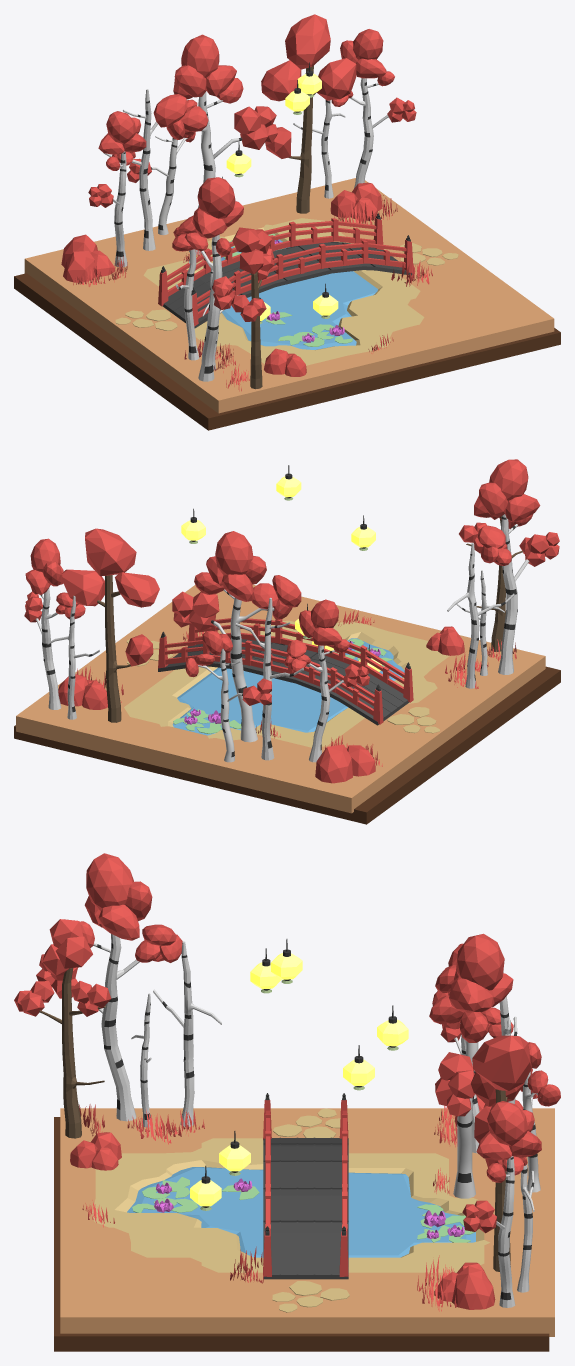
Rendered from studio.gltf.
The picture shows the model from 3 angles, top to bottom: view 1: azimuth 30°, elevation 25°; view 2: azimuth 150°, elevation 25°; view 3: azimuth 270°, elevation 25°; orthographic projection. The views are drawn at different scales.
Parts seen in each view (by area): view 1: Cube_Material.008_0, Cube_Material.016_0, Cube_Material.009_0, Icosphere.016, Cube.005_Material.003_0.001, Circle, Plane.003, Cylinder.005_Material.003_0, Cube.005_Material.007_0, Icosphere.010, Cylinder.003_Material.003_0, Cylinder.001_Material.003_0 (+10 smaller); view 2: Cube_Material.008_0, Cube_Material.016_0, Icosphere.016, Cube_Material.009_0, Circle, Cube.005_Material.003_0.001, Plane.003, Cylinder.005_Material.003_0, Cube.005_Material.007_0, Cylinder.001_Material.003_0, Icosphere.001, Cylinder.003_Material.003_0 (+11 smaller); view 3: Cube_Material.008_0, Cube_Material.009_0, Plane.003, Cube_Material.016_0, Cube.005_Material.007_0, Icosphere.016, Cylinder.005_Material.003_0, Icosphere.010, Circle, Cylinder.003_Material.003_0, Cylinder.005_Material.001_0, Cube.005_Material.003_0.001 (+14 smaller).
Boxes of the visible parts, bbox=[...] form: Cube_Material.008_0: bbox=[24, 178, 554, 413]; Cube_Material.016_0: bbox=[14, 273, 560, 430]; Cube_Material.009_0: bbox=[143, 218, 424, 365]; Icosphere.016: bbox=[153, 34, 277, 254]; Cube.005_Material.003_0.001: bbox=[158, 218, 412, 326]; Circle: bbox=[261, 14, 356, 213]; Plane.003: bbox=[221, 239, 377, 349]; Cylinder.005_Material.003_0: bbox=[172, 177, 243, 309]; Cube.005_Material.007_0: bbox=[162, 242, 412, 328]; Icosphere.010: bbox=[231, 227, 274, 389]; Cylinder.003_Material.003_0: bbox=[326, 29, 416, 122]; Cylinder.001_Material.003_0: bbox=[88, 111, 146, 207]; Cube_Material.008_0: bbox=[16, 584, 545, 813]; Cube_Material.016_0: bbox=[14, 666, 560, 824]; Icosphere.016: bbox=[172, 531, 301, 742]; Cube_Material.009_0: bbox=[124, 620, 449, 747]; Circle: bbox=[62, 528, 159, 722]; Cube.005_Material.003_0.001: bbox=[158, 618, 413, 724]; Plane.003: bbox=[172, 638, 404, 735]; Cylinder.005_Material.003_0: bbox=[474, 459, 559, 566]; Cube.005_Material.007_0: bbox=[158, 638, 408, 725]; Cylinder.001_Material.003_0: bbox=[284, 599, 369, 686]; Icosphere.001: bbox=[185, 630, 271, 762]; Cylinder.003_Material.003_0: bbox=[24, 538, 85, 622]; Cube_Material.008_0: bbox=[60, 1108, 554, 1336]; Cube_Material.009_0: bbox=[92, 1138, 489, 1272]; Plane.003: bbox=[127, 1167, 475, 1257]; Cube_Material.016_0: bbox=[54, 1117, 549, 1351]; Cube.005_Material.007_0: bbox=[263, 1137, 348, 1279]; Icosphere.016: bbox=[429, 933, 513, 1198]; Cylinder.005_Material.003_0: bbox=[36, 853, 182, 998]; Icosphere.010: bbox=[14, 919, 111, 1138]; Circle: bbox=[470, 1035, 531, 1271]; Cylinder.003_Material.003_0: bbox=[462, 1101, 541, 1233]; Cylinder.005_Material.001_0: bbox=[93, 934, 139, 1121]; Cube.005_Material.003_0.001: bbox=[263, 1100, 348, 1276].
Size of the model in its own units: 9.16 by 5.65 by 9.16.
